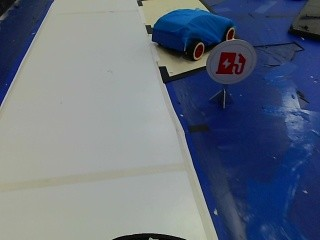battery: (212, 44, 254, 82)
car: (147, 6, 237, 46)
